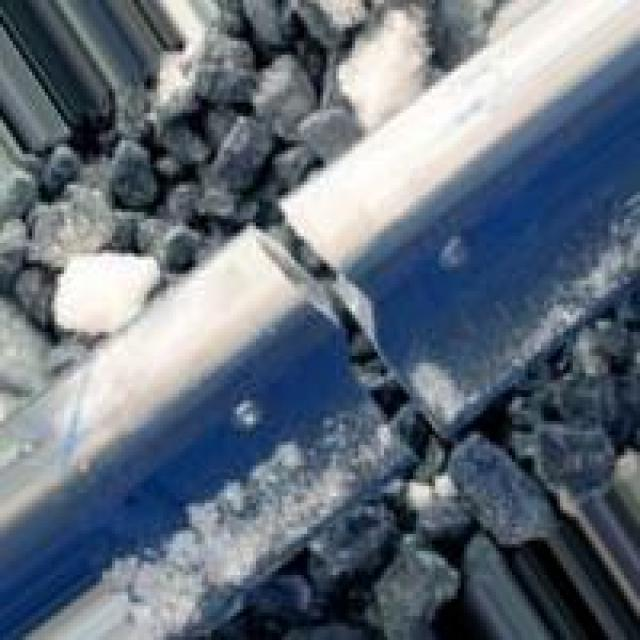crack: (179, 143, 483, 510)
